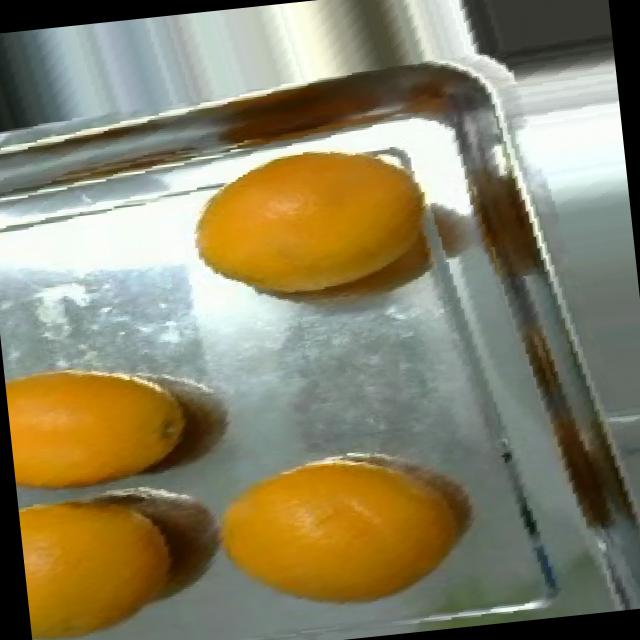Fruit: (2, 334, 200, 494)
